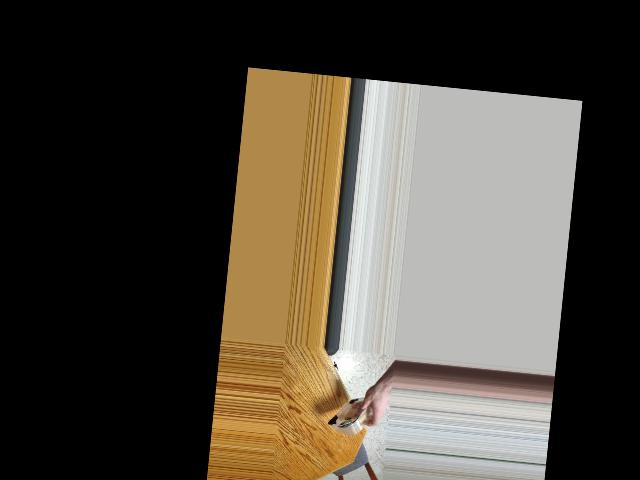cheese: (326, 382, 372, 443)
